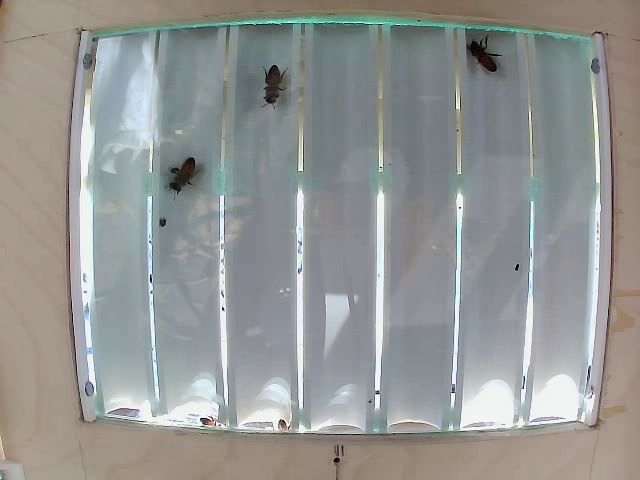bee: (169, 154, 212, 194), (262, 64, 291, 114), (462, 49, 486, 76)
